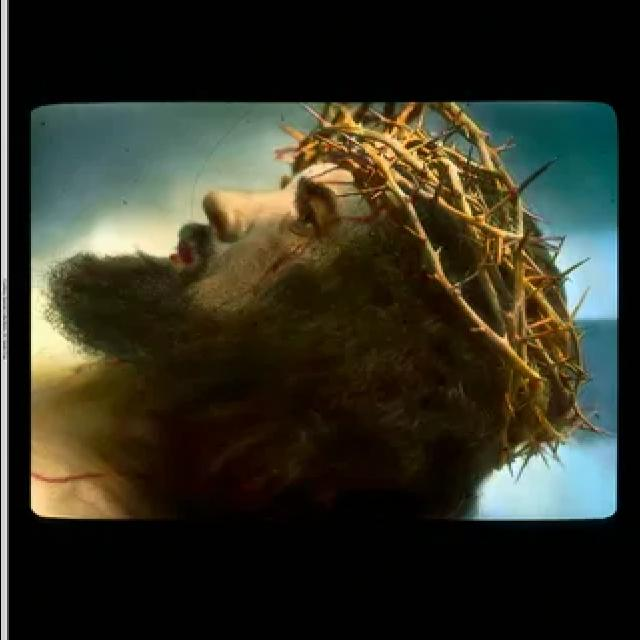crown: (368, 96, 602, 484)
